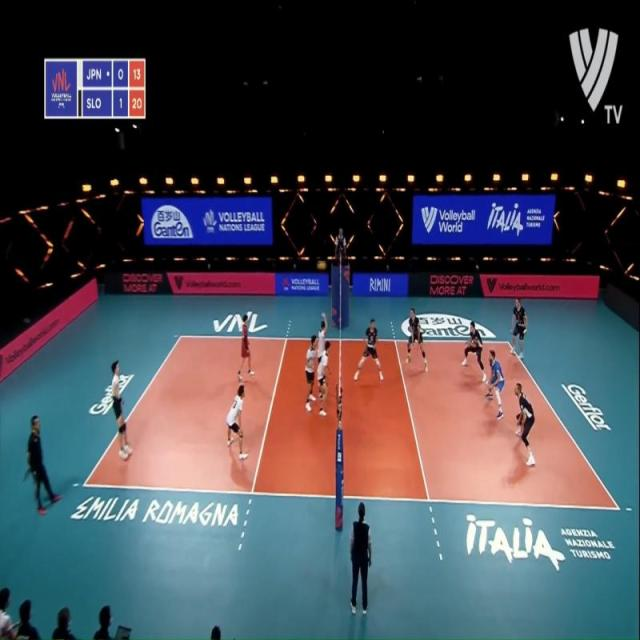volleyball: (317, 260, 326, 271)
